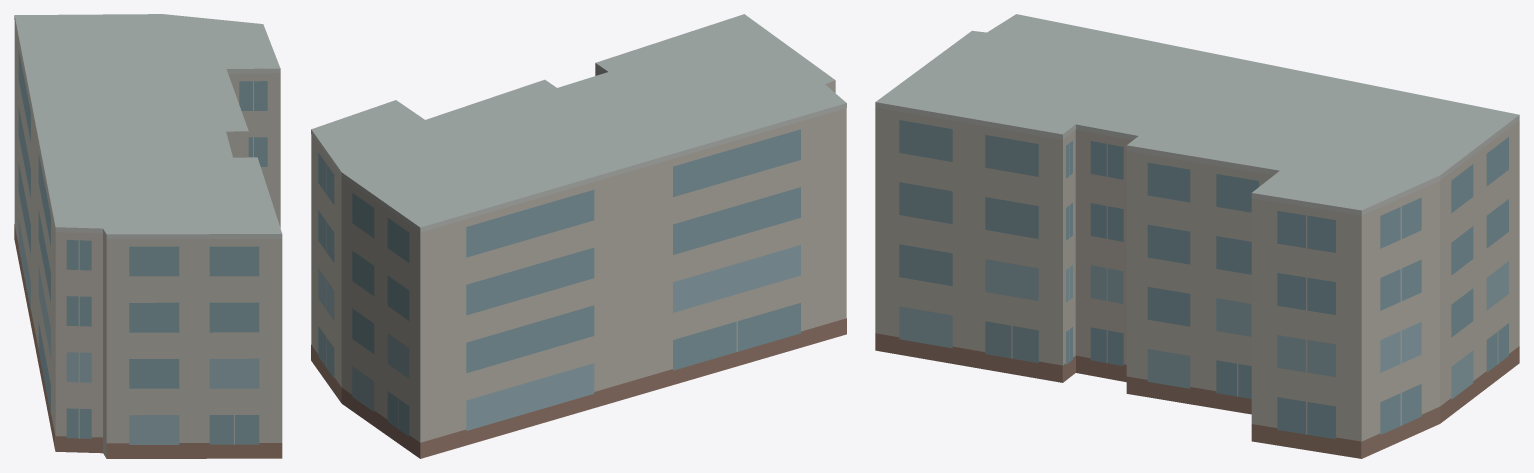
The model's file is survey-upis-32657240.glb.
3 views of the same model, side by side, from view 1: azimuth 30°, elevation 25°; view 2: azimuth 150°, elevation 25°; view 3: azimuth 270°, elevation 25° (orthographic). The views are drawn at different scales.
Parts seen in each view (by area): view 1: survey-upis-32657240.tmp; view 2: survey-upis-32657240.tmp; view 3: survey-upis-32657240.tmp.
Boxes of the visible parts, x1,y1,x2,y2 form: survey-upis-32657240.tmp: (14,14,282,458); survey-upis-32657240.tmp: (311,14,846,458); survey-upis-32657240.tmp: (875,14,1519,458).
Size of the model in its own units: 19.17 by 11.3 by 26.57.
